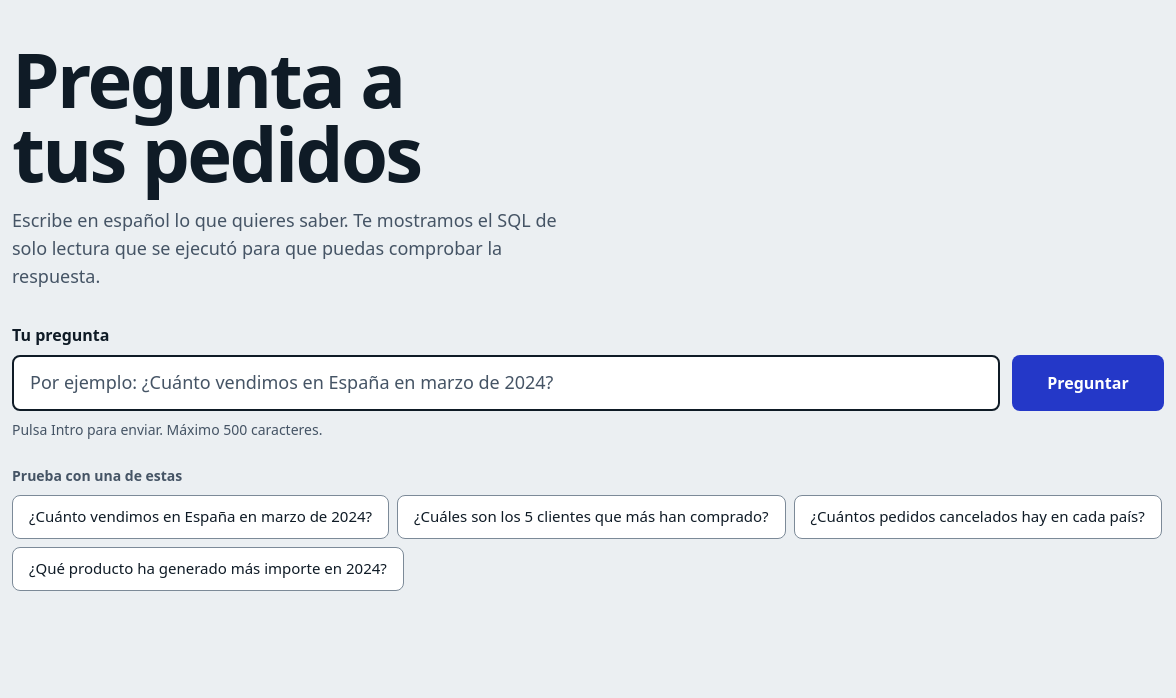
Test: QuestionPanel › muestra un mensaje en español para llm_error
This screenshot has width=1176, height=698.
Type "borra todo" into the field labelled "Tu pregunta".
click(506, 383); type("borra todo")  # box [12,355,1000,411]
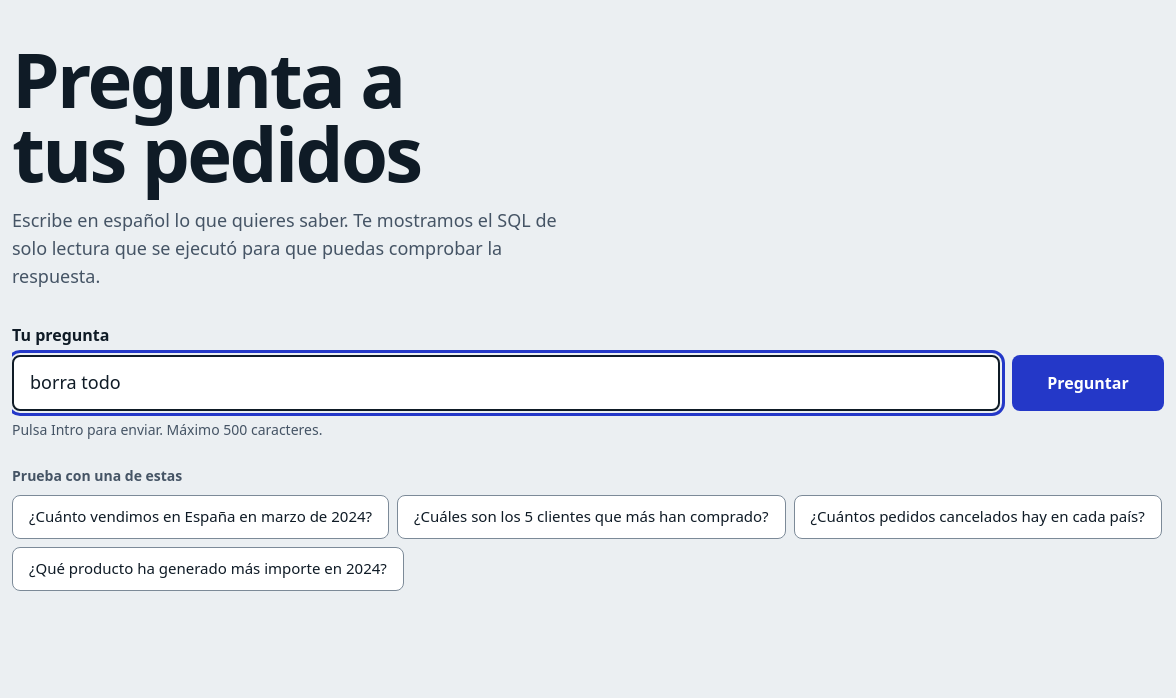
Click the button "Preguntar".
click(1088, 383)  # box [1012,355,1164,411]
(page scrolled)
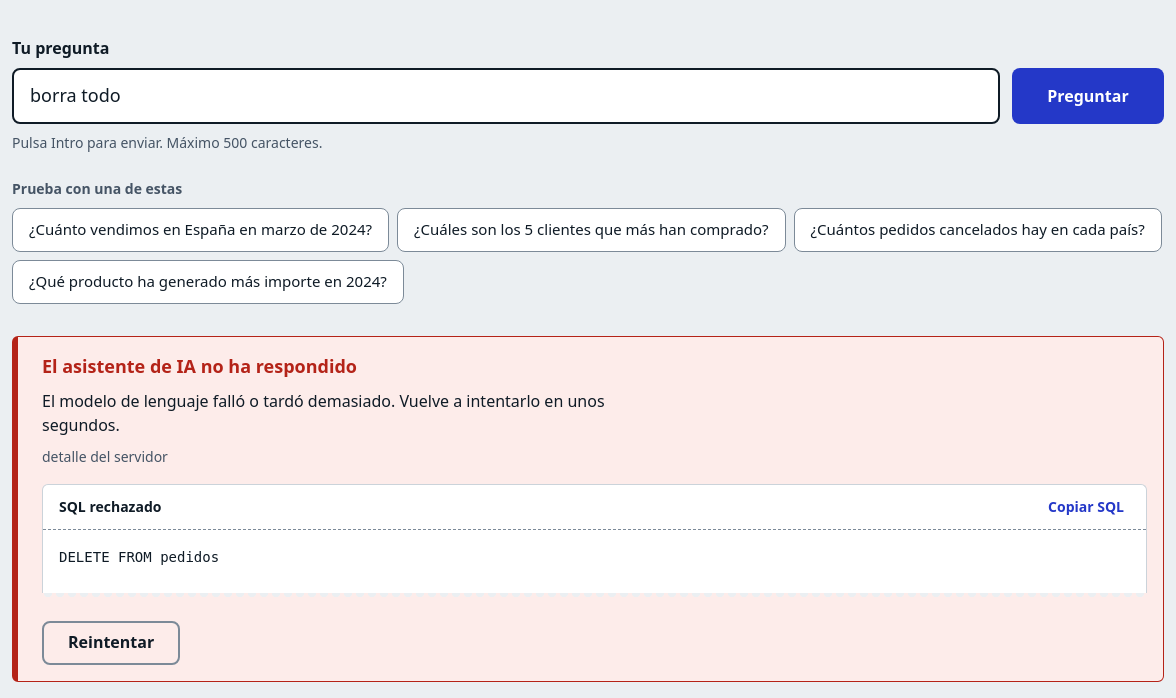
Expected: the message shows "El asistente de IA no ha respondido", [42,354,357,378]
